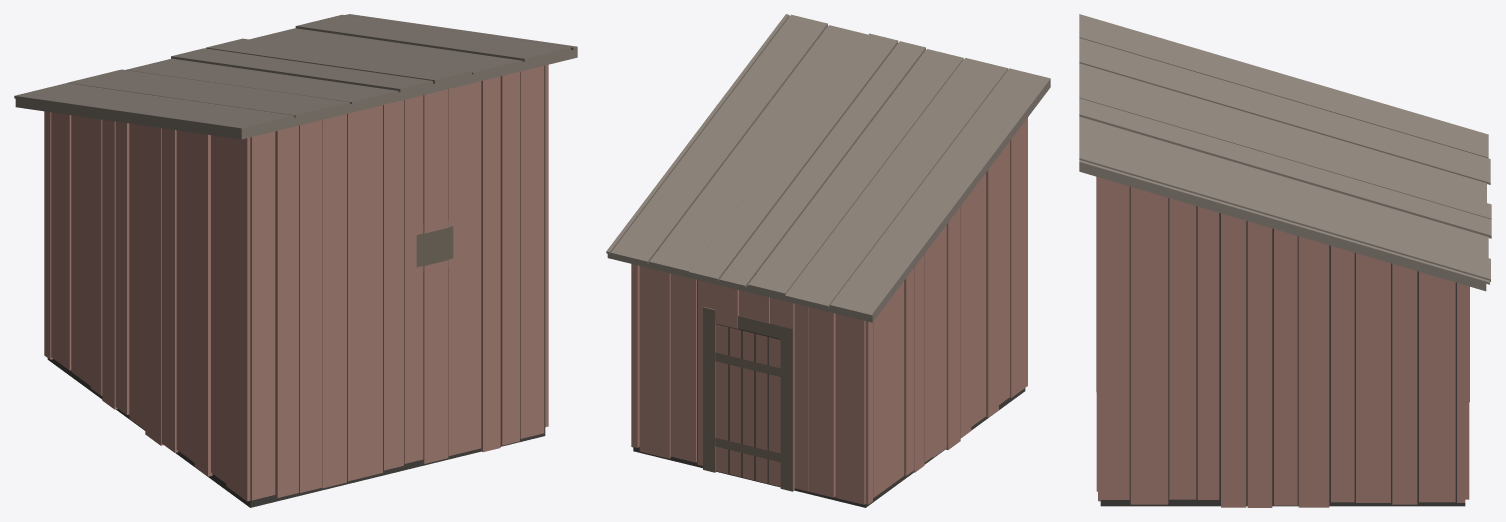
The model's file is recon_1835_north_a5_049__inferred_1835.glb.
The picture shows the model from 3 angles, left to right: view 1: azimuth 30°, elevation 25°; view 2: azimuth 150°, elevation 25°; view 3: azimuth 270°, elevation 25°; orthographic projection. The views are drawn at different scales.
Parts seen in each view (by area): view 1: recon_1835_north_a5_049__inferred_1835; view 2: recon_1835_north_a5_049__inferred_1835; view 3: recon_1835_north_a5_049__inferred_1835.
Part boxes in pixels (<box>): recon_1835_north_a5_049__inferred_1835: <box>14,14,577,507</box>; recon_1835_north_a5_049__inferred_1835: <box>606,14,1050,507</box>; recon_1835_north_a5_049__inferred_1835: <box>1079,14,1491,507</box>.
Bounding box in the file's own units: 3.48 × 3.9 × 4.11.
